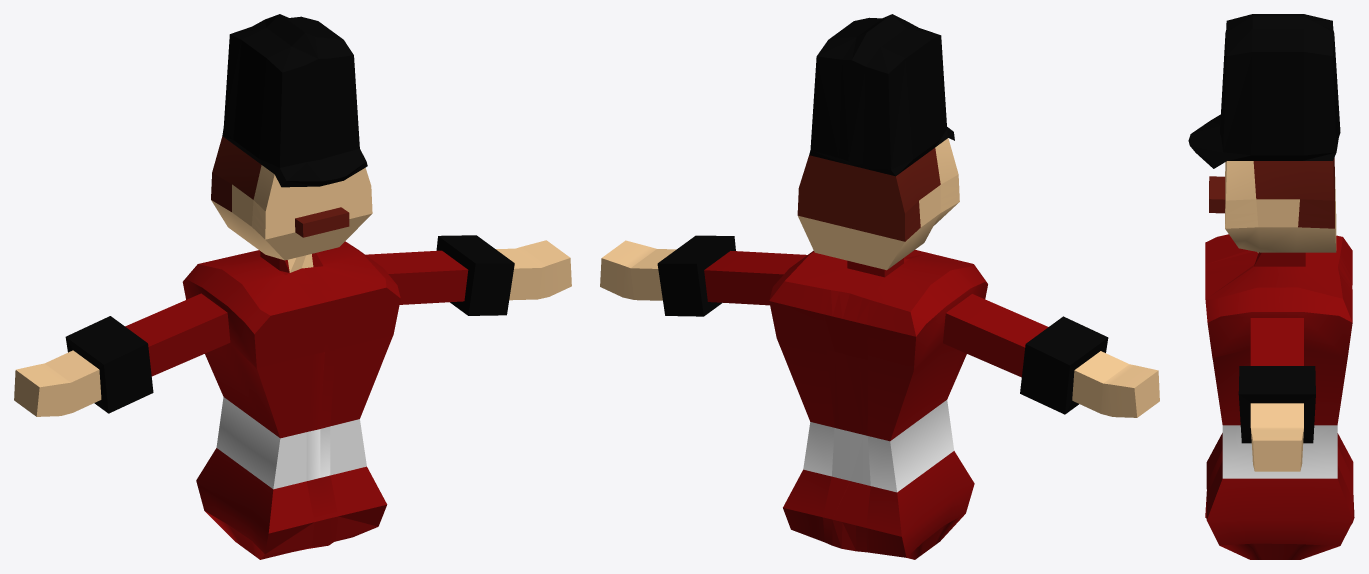
The model's file is CHAR_MaleG.FBX.
3 views of the same model, side by side, from view 1: azimuth 30°, elevation 25°; view 2: azimuth 150°, elevation 25°; view 3: azimuth 270°, elevation 25° (orthographic).
Parts seen in each view (by area): view 1: CHAR_Male005; view 2: CHAR_Male005; view 3: CHAR_Male005.
Boxes of the visible parts, <box> form: CHAR_Male005: <box>14,14,571,559</box>; CHAR_Male005: <box>600,14,1159,559</box>; CHAR_Male005: <box>1188,14,1354,559</box>.
Bounding box in the file's own units: 41.25 × 37.94 × 10.97.
